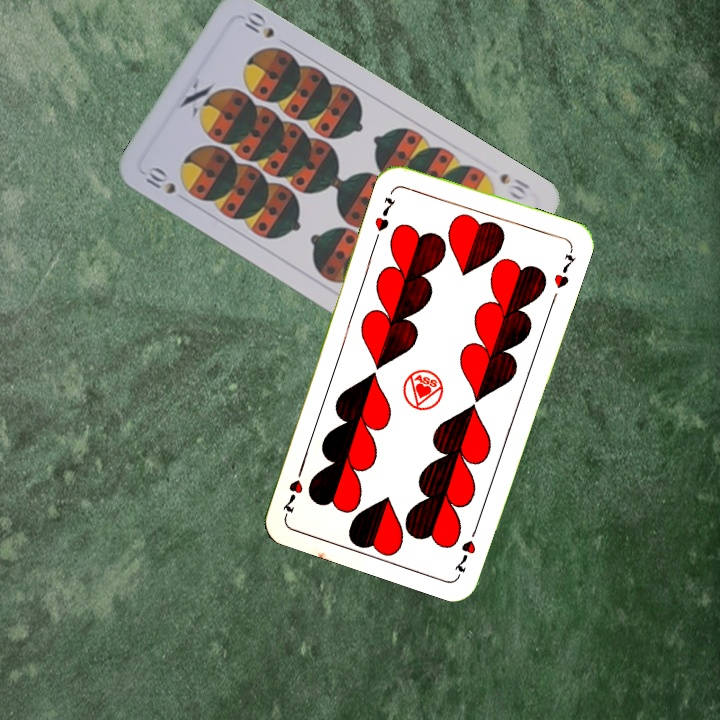H7: (450, 520, 481, 577), (370, 193, 399, 235)
S10: (495, 169, 533, 203), (140, 165, 179, 197)
